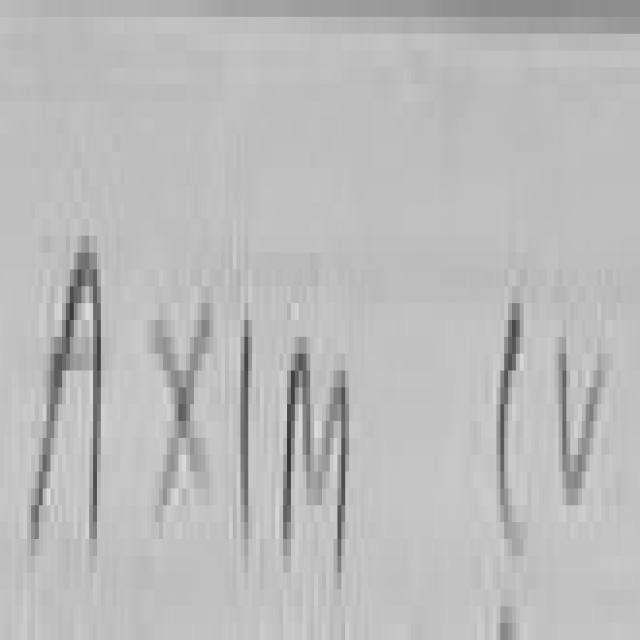A: (31, 253, 101, 539)
C: (500, 303, 524, 556)
I: (243, 320, 252, 555)
M: (283, 354, 349, 564)
V: (562, 354, 605, 505)
X: (155, 303, 213, 514)
